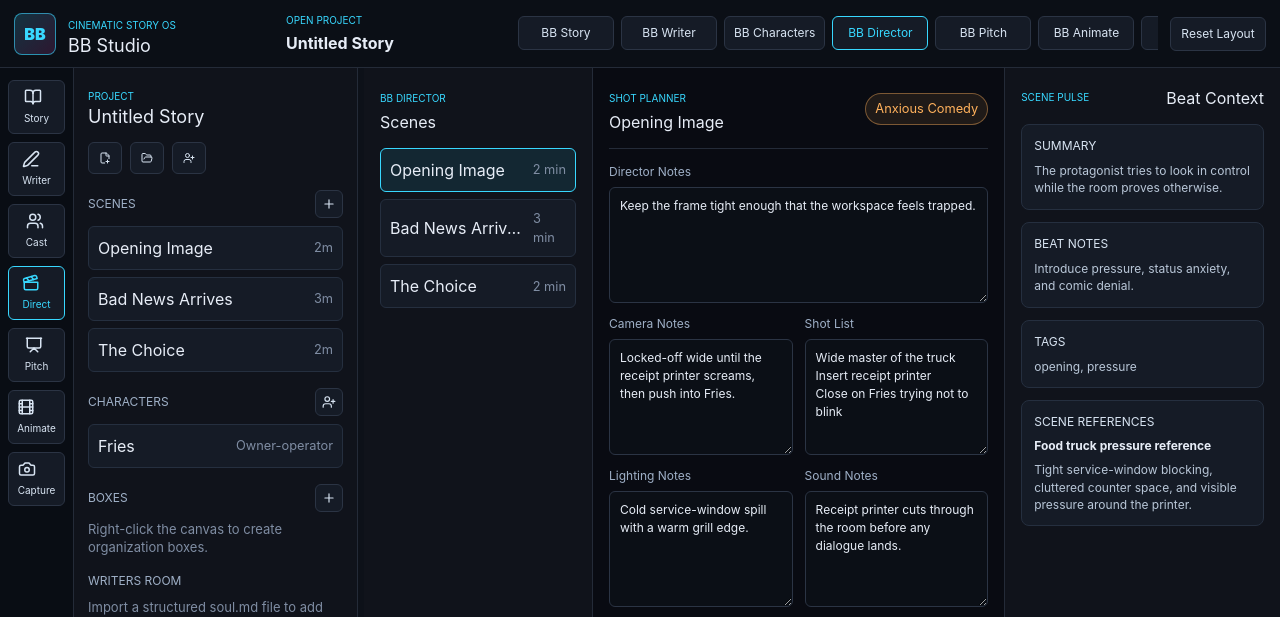
Test: App › opens BB Pitch as a project pitch workspace
Click the button "BB Pitch": point(983, 32) [935, 16, 1031, 50]
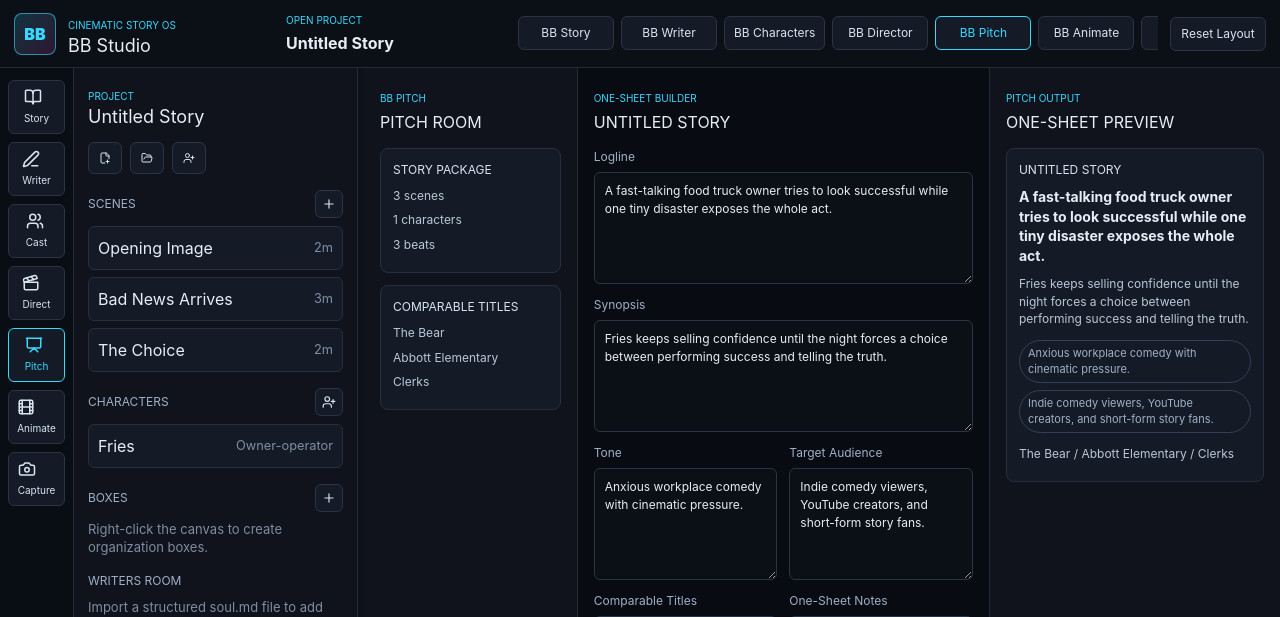
Expected: the text box labelled "Logline" is shown, [594, 172, 973, 284]
Now the heading "Pitch Room" is shown, box [380, 112, 482, 132]
Now the heading "One-Sheet Preview" is shown, box [1006, 112, 1174, 132]
